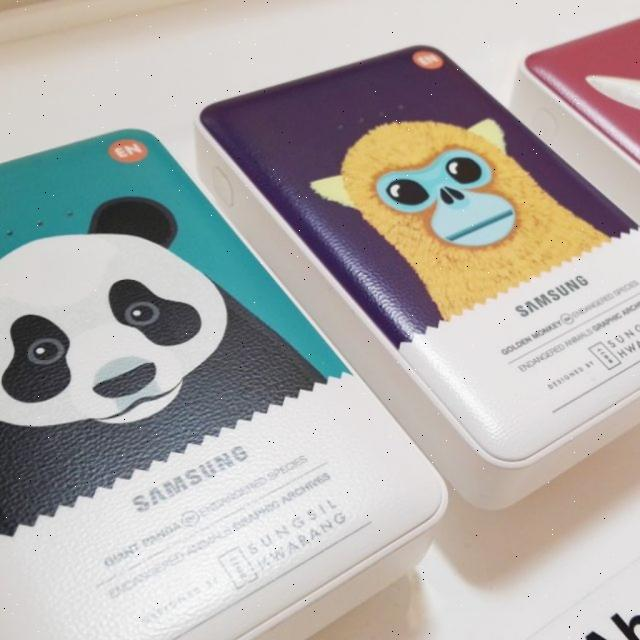panda: (0, 196, 327, 539)
